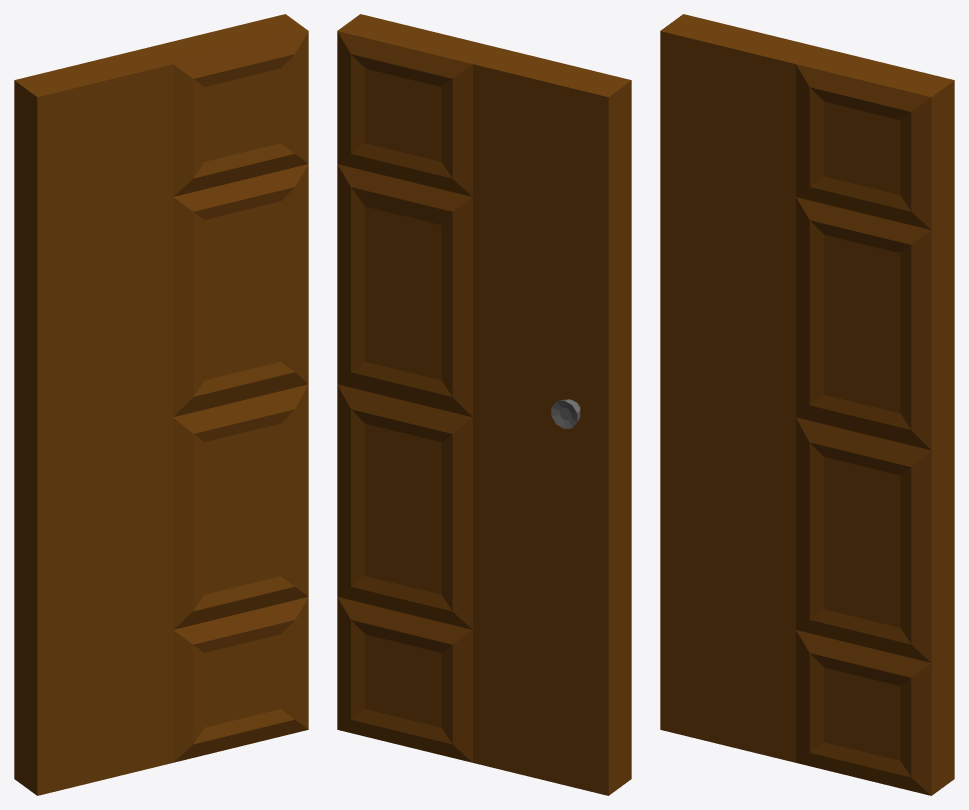
The model's file is Door.fbx.
3 views of the same model, side by side, from view 1: azimuth 30°, elevation 25°; view 2: azimuth 150°, elevation 25°; view 3: azimuth 330°, elevation 25° (orthographic).
Parts seen in each view (by area): view 1: Door; view 2: Door; view 3: Door.
Boxes of the visible parts, left/top/right/bottom form: Door: left=14, top=14, right=308, bottom=795; Door: left=337, top=14, right=631, bottom=795; Door: left=660, top=14, right=954, bottom=795.
Size of the model in its own units: 0.9845 by 2.42 by 0.2325.
